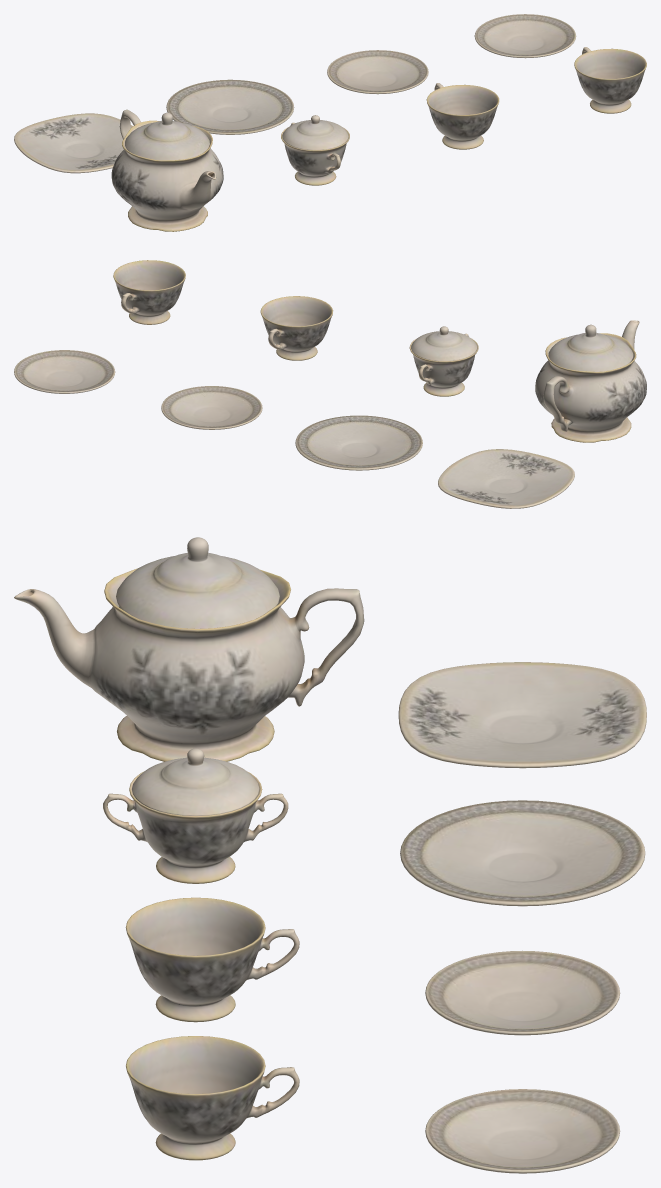
The model's file is tea_set_01.glb.
The picture shows the model from 3 angles, top to bottom: view 1: azimuth 30°, elevation 25°; view 2: azimuth 150°, elevation 25°; view 3: azimuth 270°, elevation 25°; orthographic projection. The views are drawn at different scales.
Parts seen in each view (by area): view 1: tea_set_01_teapot_01, tea_set_01_plate_large_circular_03, tea_set_01_plate_large_square_01, tea_set_01_cup_small_01, tea_set_01_cup_small_02, tea_set_01_saucer_circular_03, tea_set_01_saucer_circular_04, tea_set_01_teapot_01_lid, tea_set_01_sugar_cup_01, tea_set_01_sugar_cup_01_lid; view 2: tea_set_01_teapot_01, tea_set_01_plate_large_square_01, tea_set_01_plate_large_circular_03, tea_set_01_cup_small_01, tea_set_01_cup_small_02, tea_set_01_saucer_circular_04, tea_set_01_saucer_circular_03, tea_set_01_teapot_01_lid, tea_set_01_sugar_cup_01, tea_set_01_sugar_cup_01_lid; view 3: tea_set_01_teapot_01, tea_set_01_plate_large_square_01, tea_set_01_plate_large_circular_03, tea_set_01_cup_small_01, tea_set_01_cup_small_02, tea_set_01_saucer_circular_03, tea_set_01_saucer_circular_04, tea_set_01_teapot_01_lid, tea_set_01_sugar_cup_01, tea_set_01_sugar_cup_01_lid.
Part boxes in pixels (x1,y1,x2,y2): tea_set_01_teapot_01: (111, 109, 223, 231); tea_set_01_plate_large_circular_03: (166, 79, 294, 134); tea_set_01_plate_large_square_01: (14, 113, 133, 173); tea_set_01_cup_small_01: (426, 83, 499, 149); tea_set_01_cup_small_02: (574, 47, 646, 113); tea_set_01_saucer_circular_03: (474, 14, 576, 58); tea_set_01_saucer_circular_04: (327, 50, 428, 94); tea_set_01_teapot_01_lid: (125, 112, 209, 160); tea_set_01_sugar_cup_01: (281, 122, 349, 185); tea_set_01_sugar_cup_01_lid: (282, 115, 348, 150); tea_set_01_teapot_01: (535, 320, 646, 442); tea_set_01_plate_large_square_01: (438, 449, 574, 508); tea_set_01_plate_large_circular_03: (295, 415, 422, 470); tea_set_01_cup_small_01: (260, 296, 333, 360); tea_set_01_cup_small_02: (113, 260, 185, 324); tea_set_01_saucer_circular_04: (161, 386, 262, 429); tea_set_01_saucer_circular_03: (14, 350, 115, 393); tea_set_01_teapot_01_lid: (548, 324, 633, 371); tea_set_01_sugar_cup_01: (409, 333, 478, 396); tea_set_01_sugar_cup_01_lid: (411, 326, 477, 361); tea_set_01_teapot_01: (14, 568, 364, 761); tea_set_01_plate_large_square_01: (398, 662, 646, 768); tea_set_01_plate_large_circular_03: (400, 800, 645, 906); tea_set_01_cup_small_01: (125, 897, 299, 1022); tea_set_01_cup_small_02: (126, 1036, 299, 1160); tea_set_01_saucer_circular_03: (425, 1089, 620, 1173); tea_set_01_saucer_circular_04: (425, 950, 620, 1035); tea_set_01_teapot_01_lid: (116, 537, 279, 628); tea_set_01_sugar_cup_01: (103, 771, 288, 883); tea_set_01_sugar_cup_01_lid: (131, 748, 259, 815).
Bounding box in the file's own units: 0.9185 × 0.165 × 0.4839.
1 material, 1 textured.
